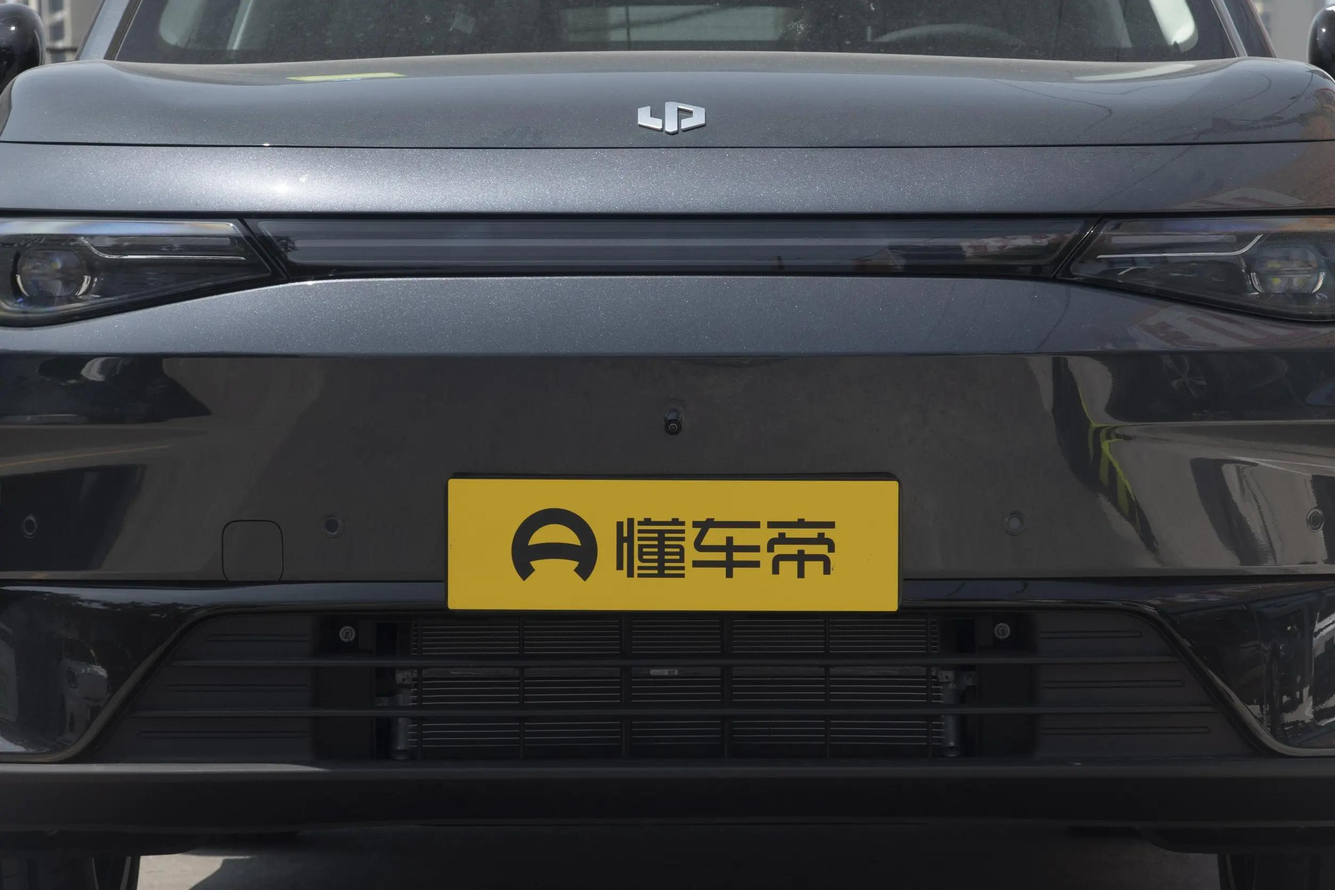LEAPMOTOR: (637, 101, 706, 134)
